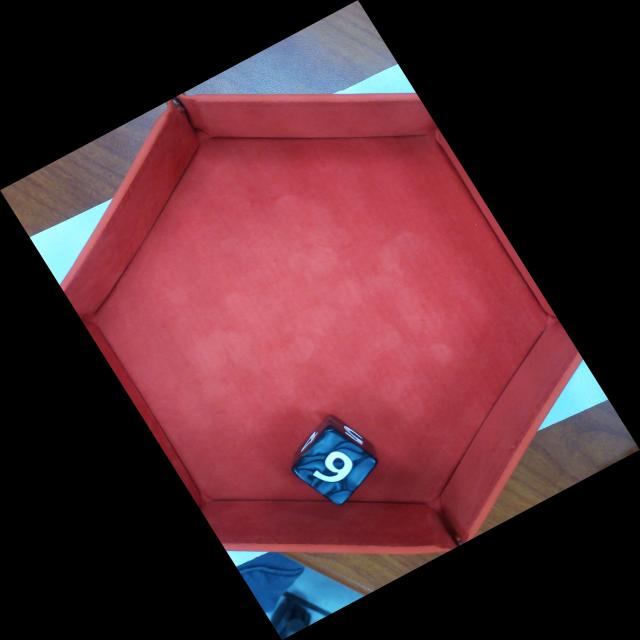dice: (298, 430, 380, 505)
